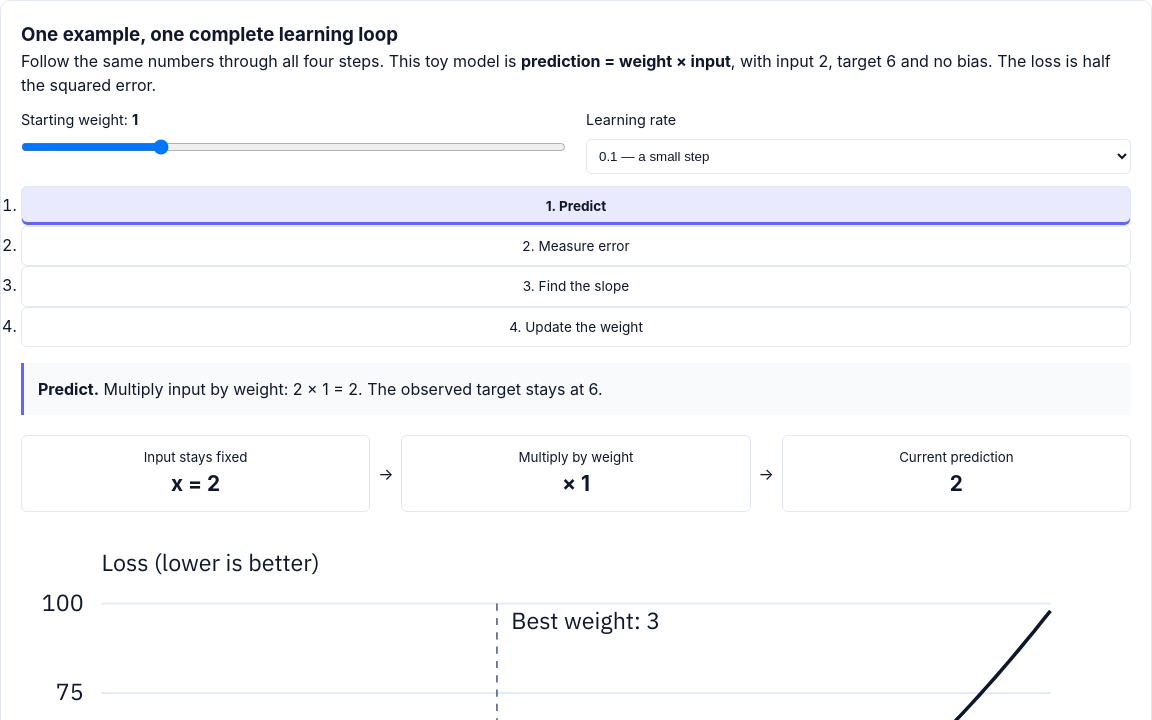
visual connections › shows why a larger update can increase loss
This screenshot has width=1152, height=720.
Click the button "4. Update the weight" at coordinates (576, 327), box left=21, top=307, right=1131, bottom=347
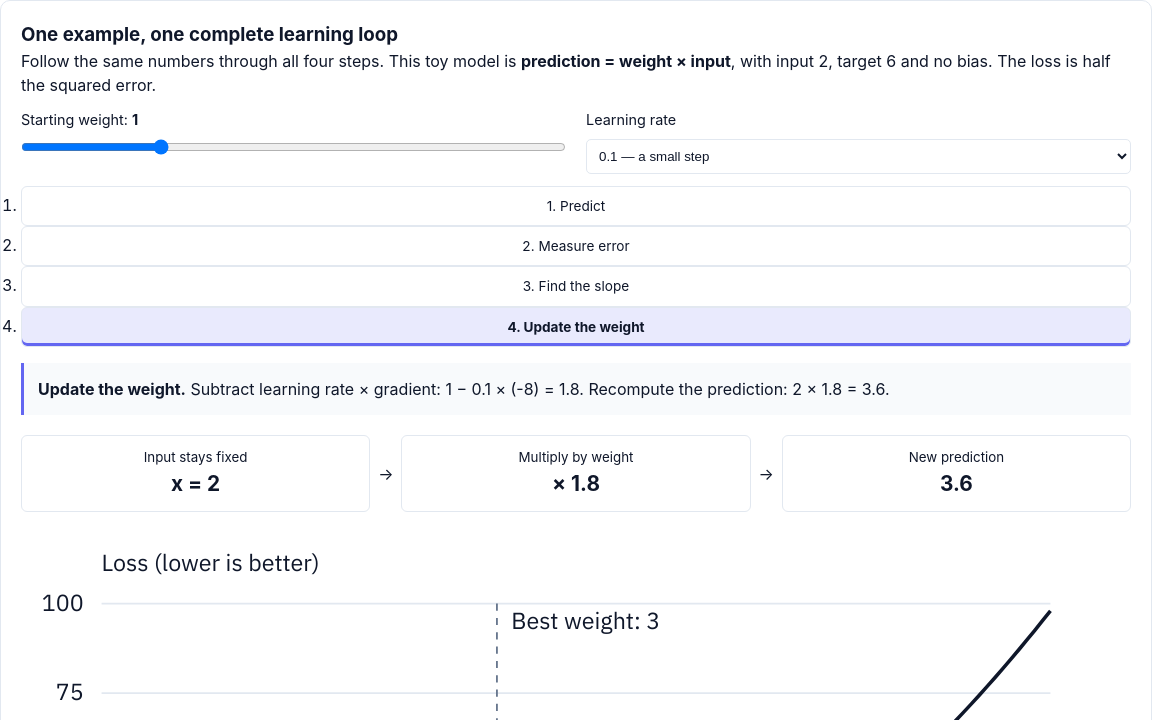
Select "0.8 — a large step" in the dropdown at coordinates (858, 156), box left=586, top=139, right=1131, bottom=174
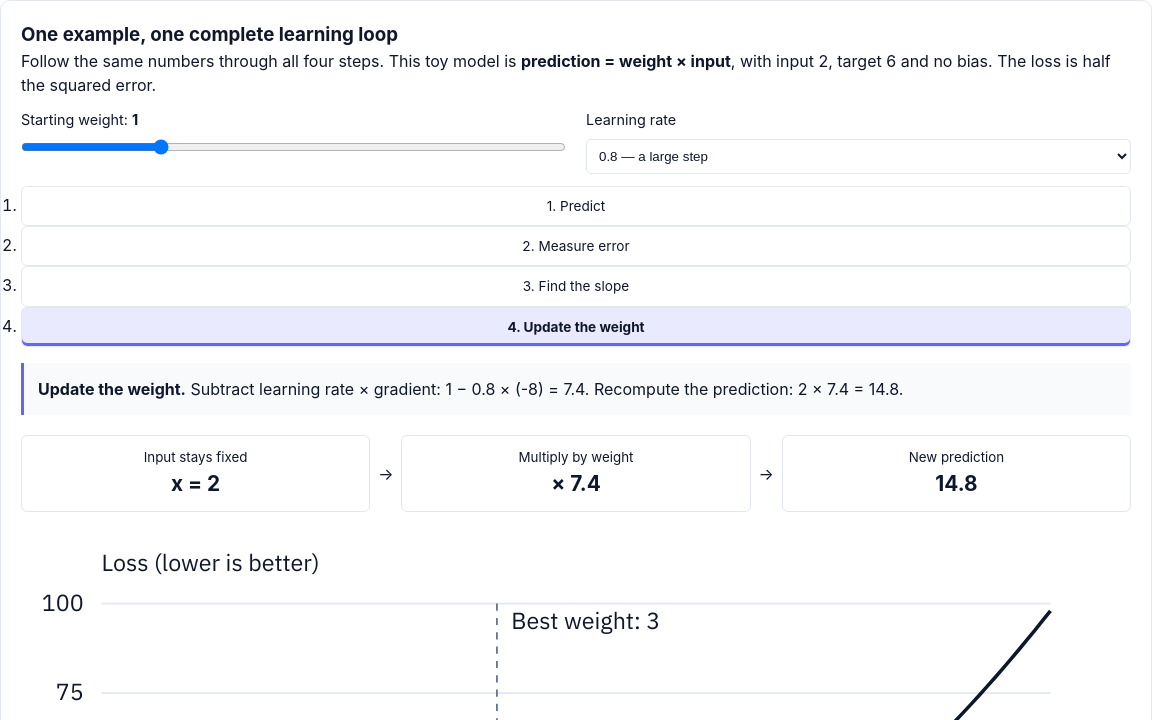
Set the slider to "3" at coordinates (426, 147), box left=21, top=139, right=566, bottom=155
(page scrolled)
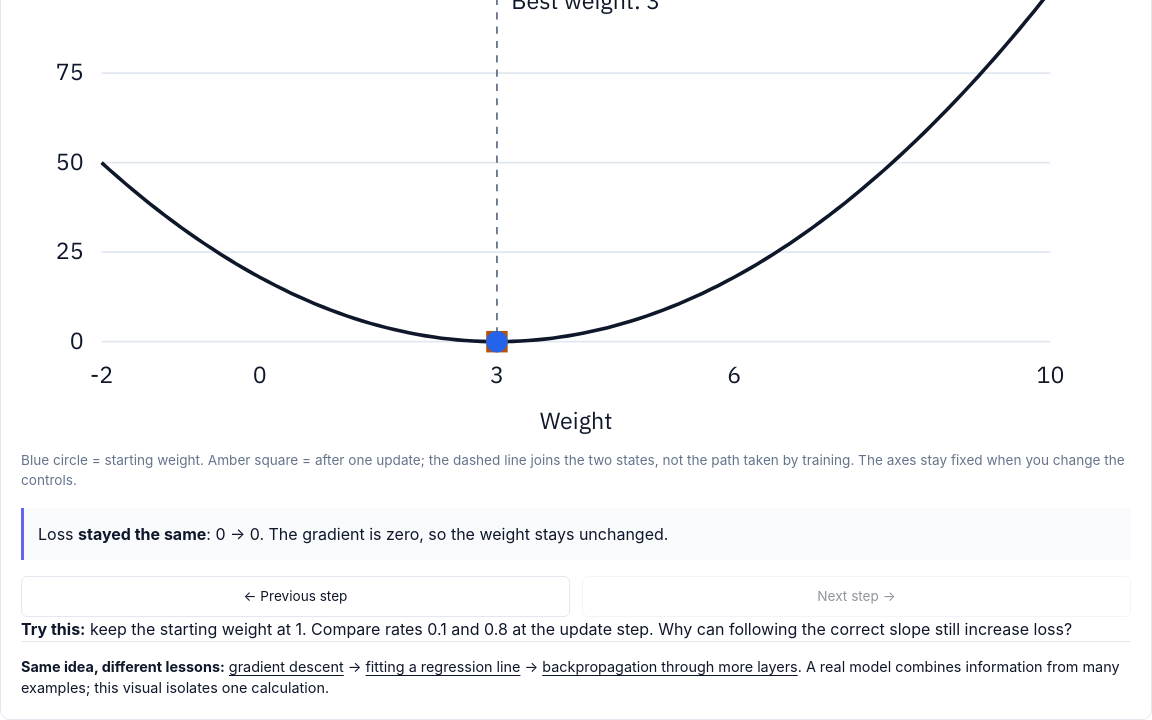
Expected: the text "stayed the same" is shown, left=78, top=524, right=206, bottom=544
